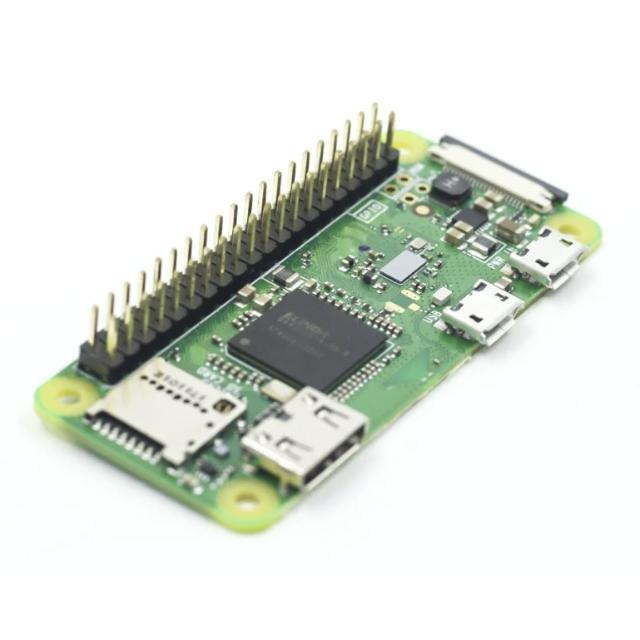Raspberry-Pi-Zero-WH: (36, 110, 602, 532)
